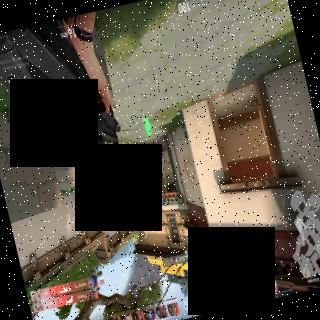ENEMY-BODY: (158, 146, 166, 164)
ENEMY-HEAD: (163, 160, 165, 163)
